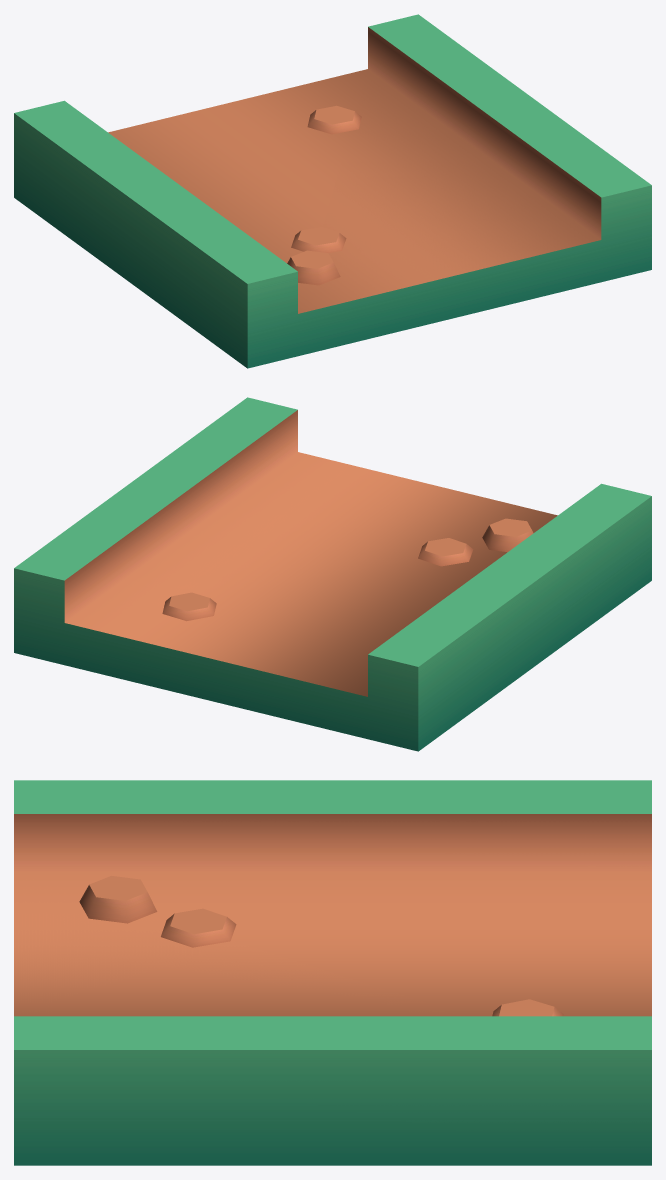
Rendered from tile-straight.glb.
The picture shows the model from 3 angles, top to bottom: view 1: azimuth 30°, elevation 25°; view 2: azimuth 150°, elevation 25°; view 3: azimuth 270°, elevation 25°; orthographic projection. The views are drawn at different scales.
Visible parts, largest first — view 1: tile-straight; view 2: tile-straight; view 3: tile-straight.
Boxes of the visible parts, bbox=[...] form: tile-straight: bbox=[14, 14, 651, 368]; tile-straight: bbox=[14, 397, 651, 751]; tile-straight: bbox=[14, 780, 651, 1165].
Bounding box in the file's own units: 1 × 0.2 × 1.
Materials: 1 (1 with a texture image).
